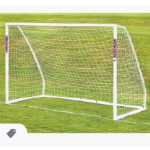goals: (4, 22, 148, 122)
